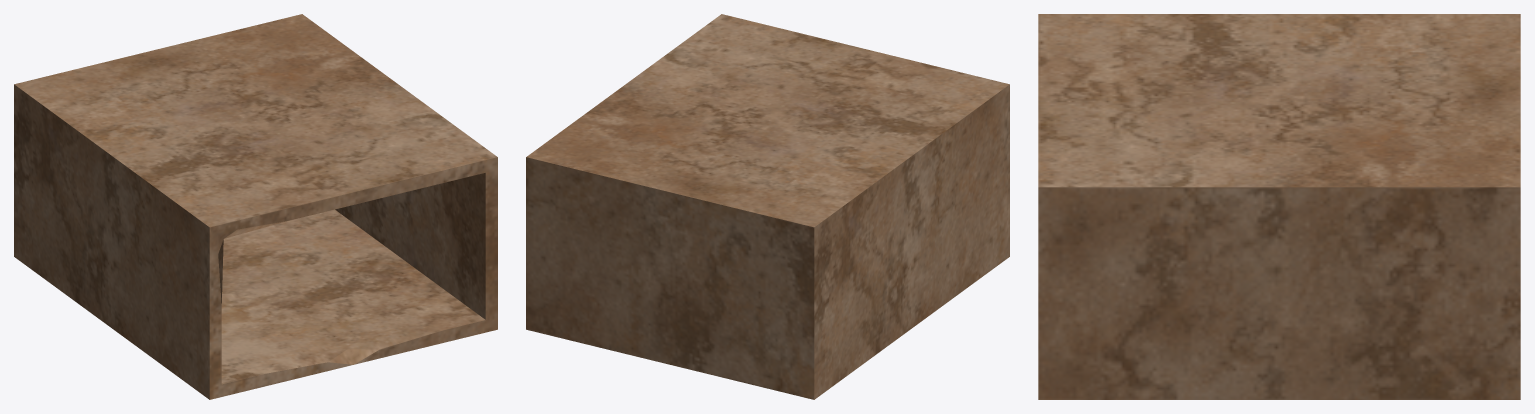
Rendered from Drawer 2.fbx.
The picture shows the model from 3 angles, left to right: view 1: azimuth 30°, elevation 25°; view 2: azimuth 150°, elevation 25°; view 3: azimuth 270°, elevation 25°; orthographic projection. The views are drawn at different scales.
Parts seen in each view (by area): view 1: Cube.002; view 2: Cube.002; view 3: Cube.002.
Part boxes in pixels (x1,y1,x2,y2): Cube.002: [14, 14, 497, 399]; Cube.002: [526, 14, 1009, 399]; Cube.002: [1038, 14, 1520, 399].
Size of the model in its own units: 126 by 72.21 by 148.
1 material, 1 textured.
